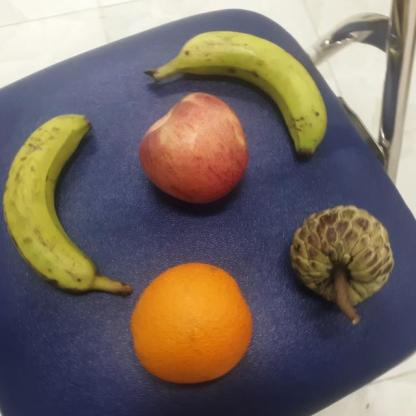annona: (282, 199, 401, 328)
apple: (137, 89, 252, 211)
banana: (0, 113, 129, 300), (152, 28, 331, 160)
orange: (128, 252, 253, 390)
